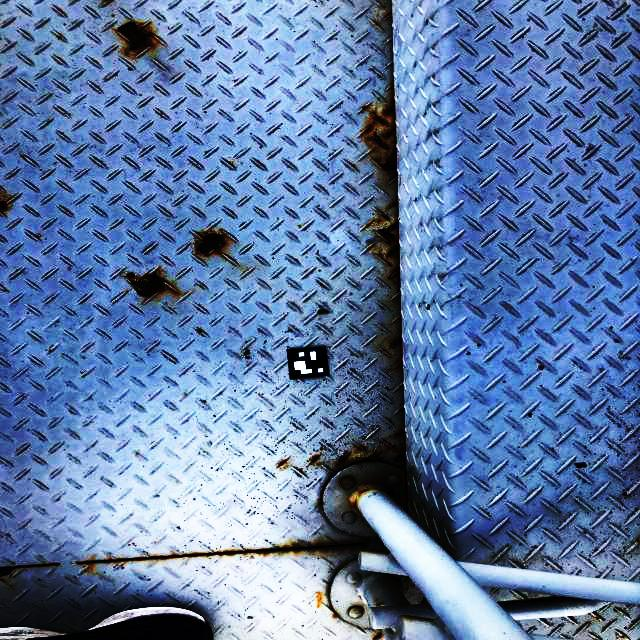Corrosion: (358, 97, 397, 175), (124, 271, 164, 297), (116, 21, 151, 49), (374, 220, 399, 259), (195, 233, 224, 255), (394, 447, 406, 468), (366, 450, 382, 461), (389, 336, 402, 349), (0, 567, 15, 578), (337, 454, 350, 466), (0, 194, 9, 211), (392, 429, 405, 440), (387, 488, 396, 499), (353, 501, 360, 515), (371, 632, 382, 640), (278, 459, 286, 467), (388, 444, 397, 451), (312, 456, 320, 463), (360, 489, 368, 495), (359, 445, 366, 451), (363, 106, 367, 110)
